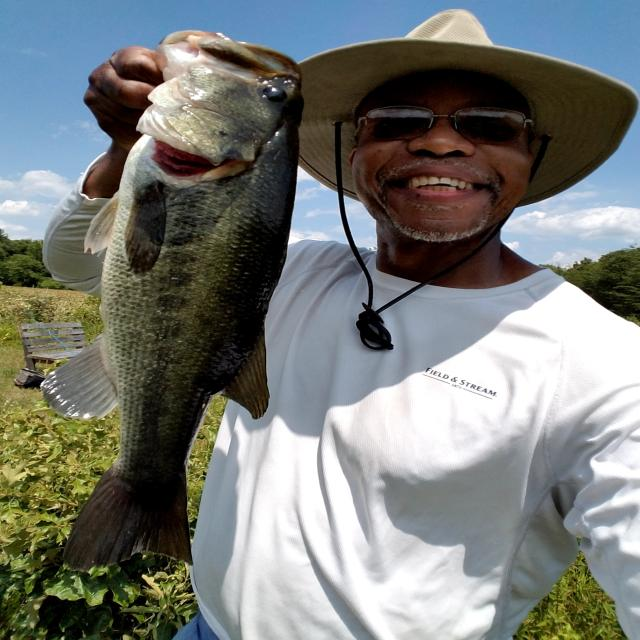Bass - Largemouth: (64, 32, 301, 569)
